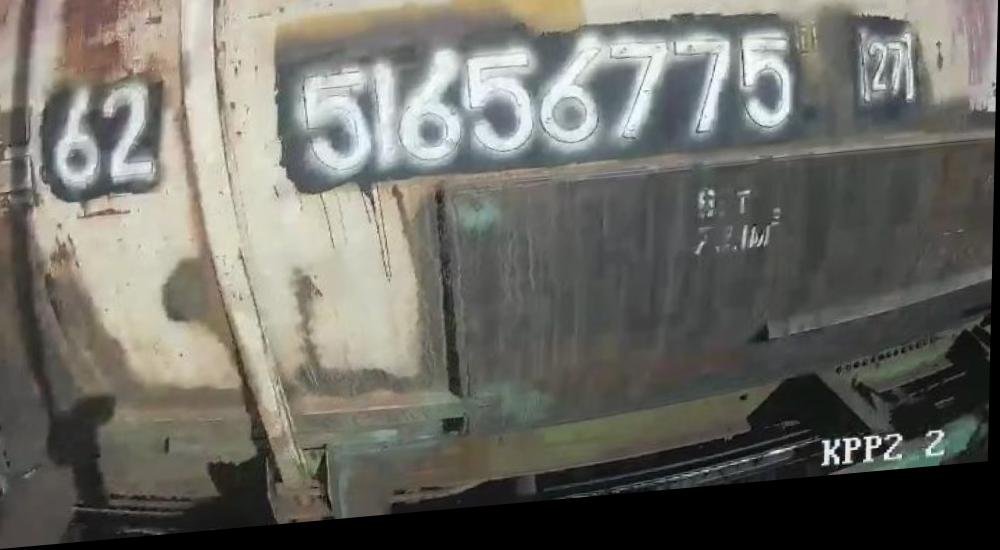Wagon-number: (286, 24, 806, 193)
